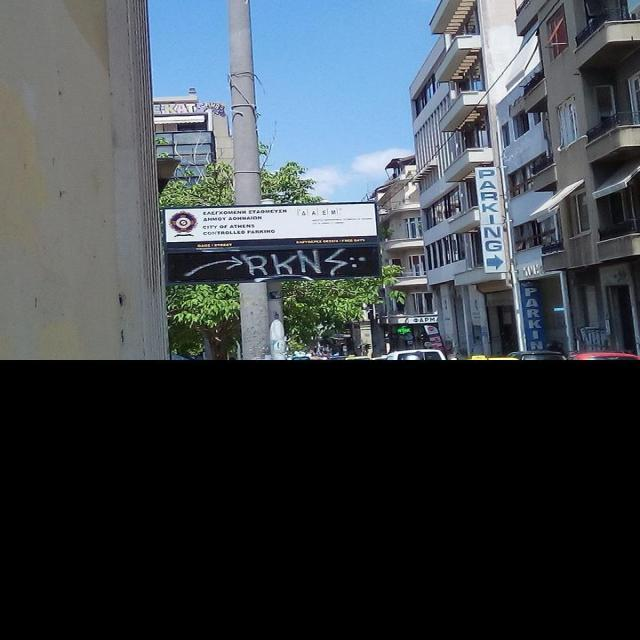nonspitting: (186, 245, 370, 284)
